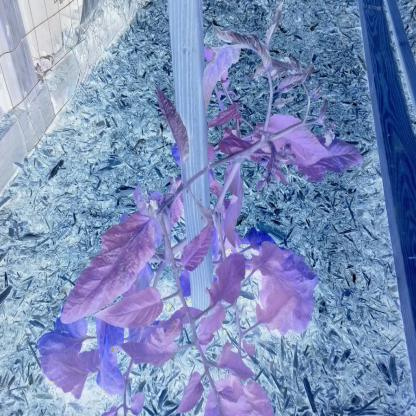tomato leaf: (56, 211, 157, 322), (300, 138, 367, 182), (204, 242, 244, 315)
